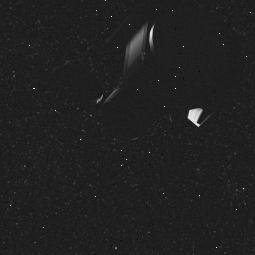cheops: (77, 30, 222, 136)
